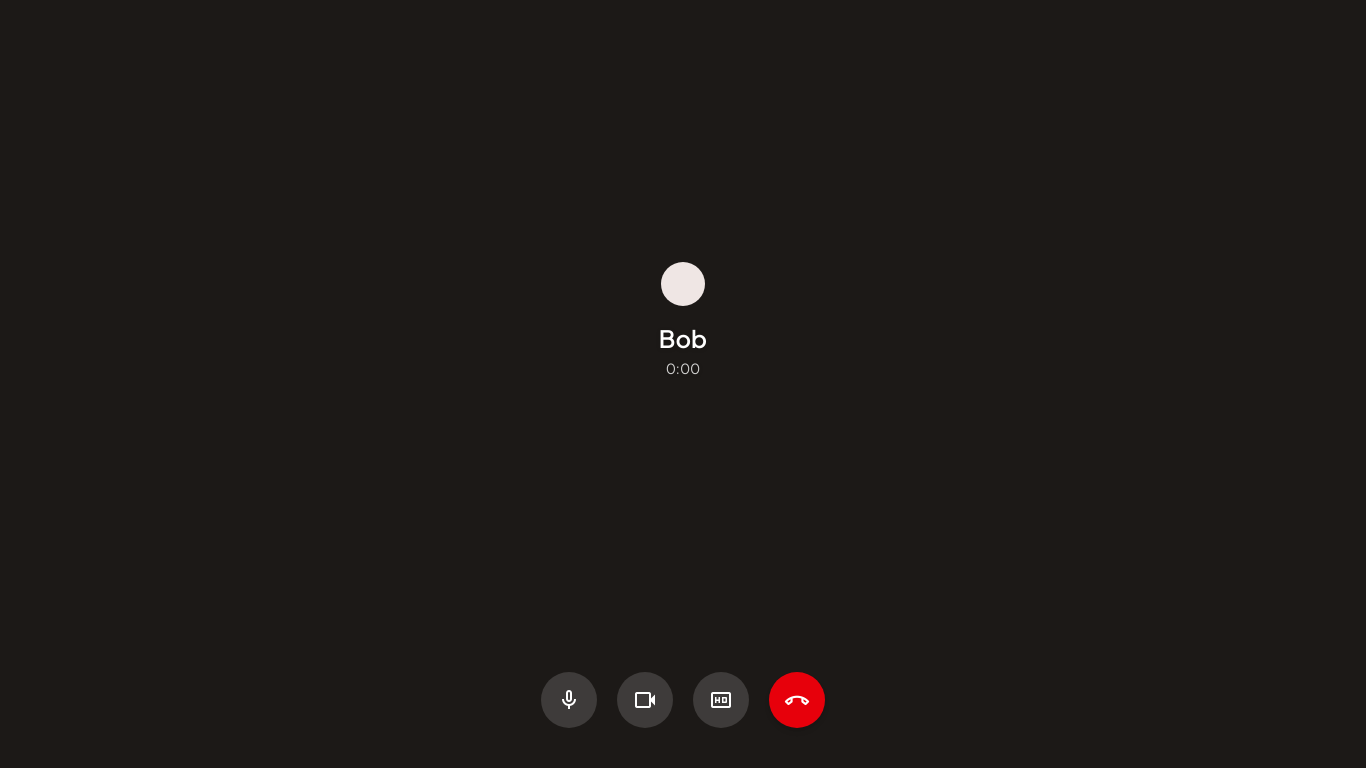
Test: выбор качества видео на экране звонка › выбор «Auto» вызывает смену качества и закрывает меню
Click the button named "Video quality".
click(721, 700)  # box [693,672,749,728]
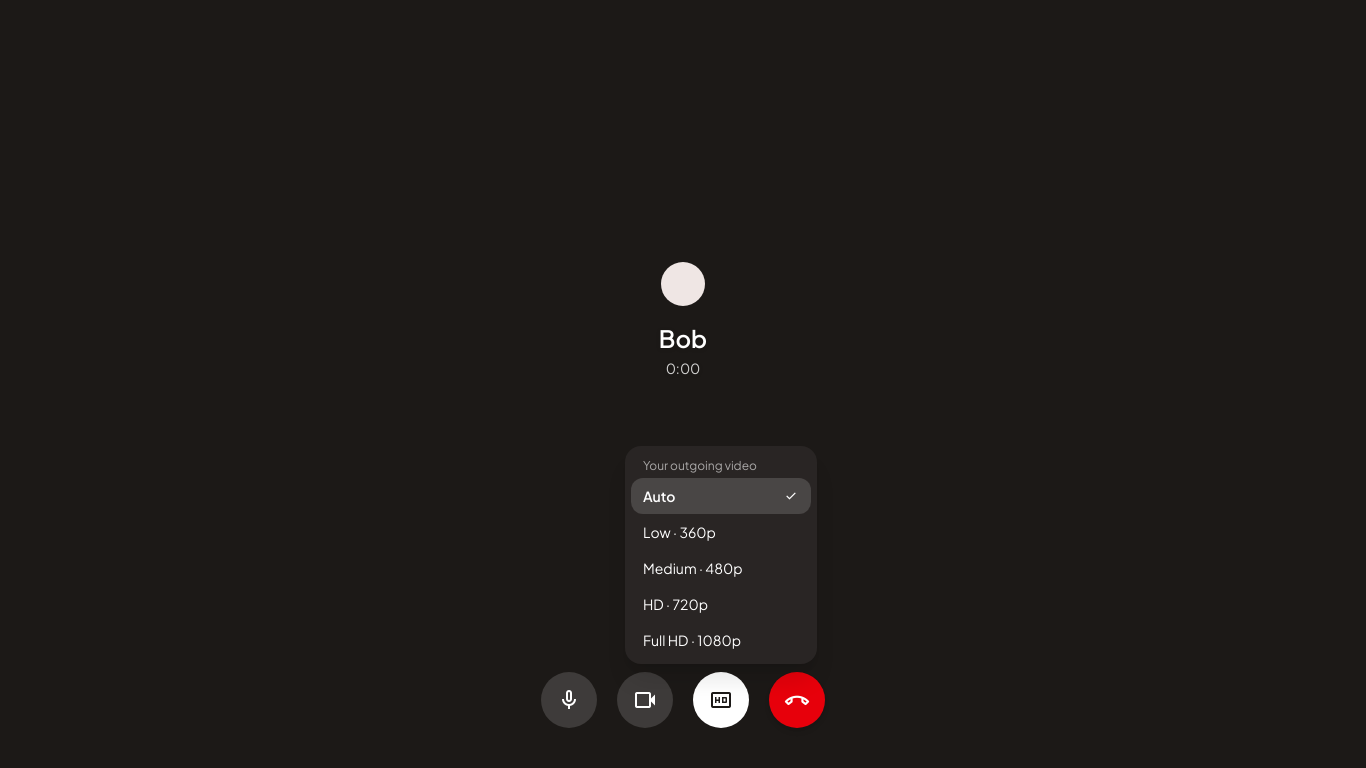
Click the menu item "Auto".
click(721, 496)  # box [631,478,811,514]
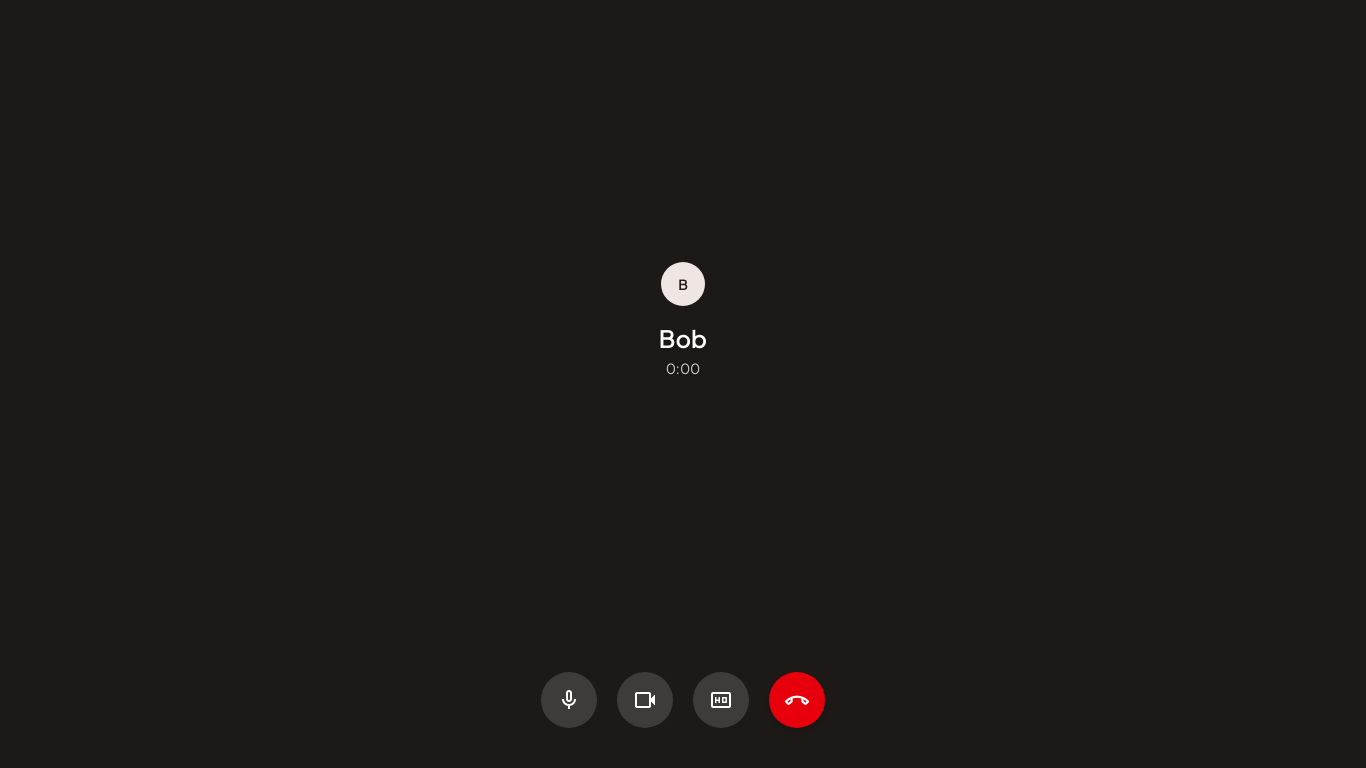
Expected: the menu is gone
